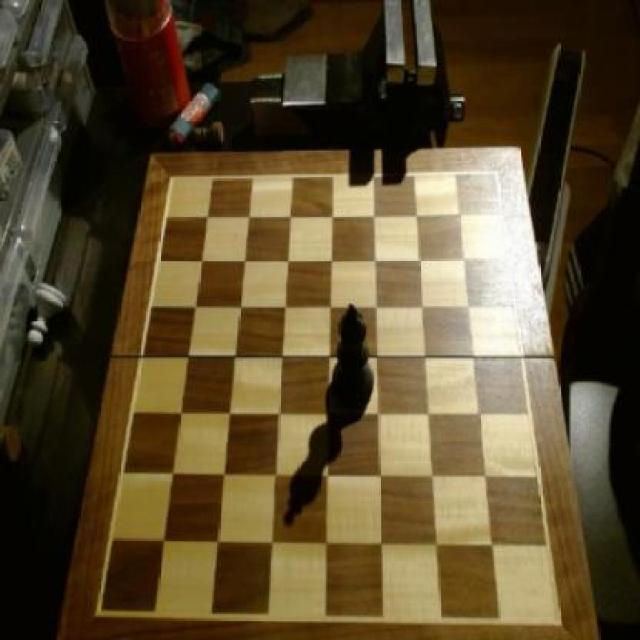black-bishop: (332, 303, 376, 409)
